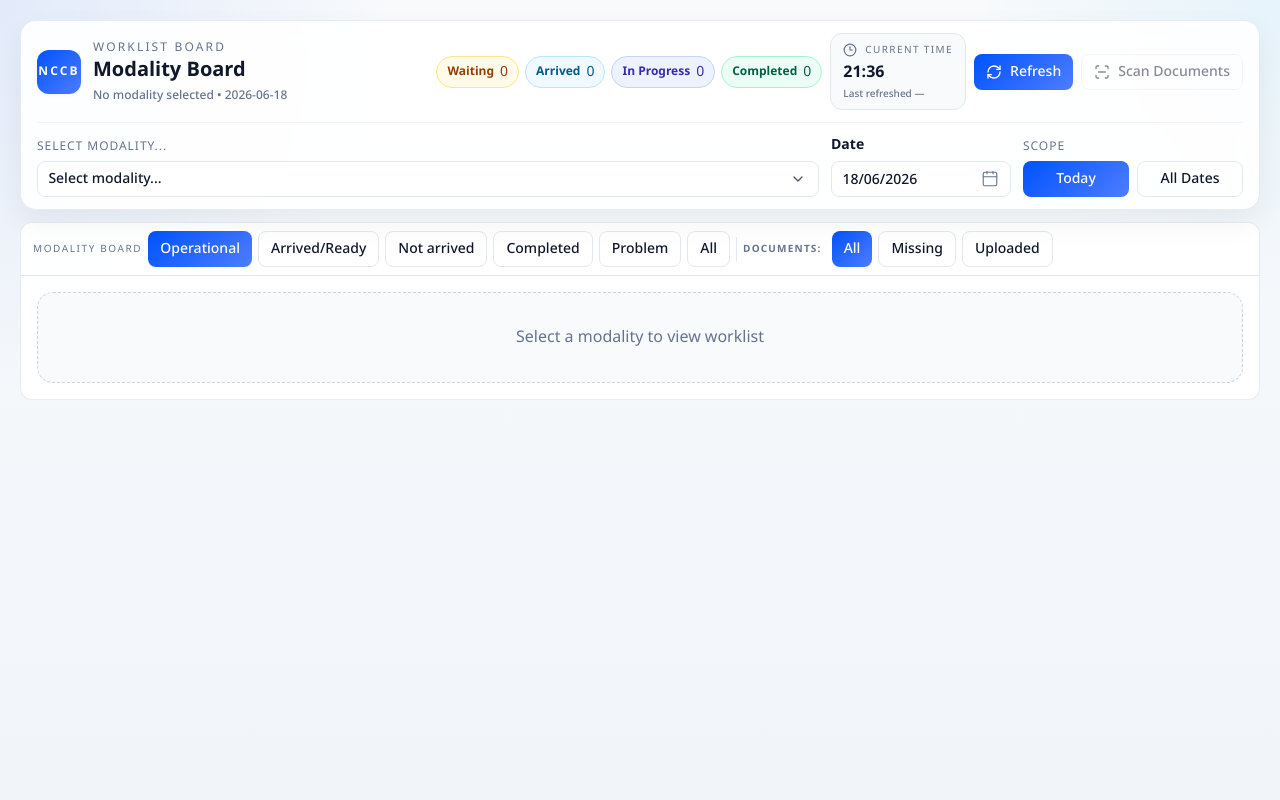
Scenario: ModalityPage modality board › shows the scoped failed scan count in the Scan Documents button
The image size is (1280, 800).
Select "CT" in the dropdown at point(428, 179), box [37, 161, 819, 197]
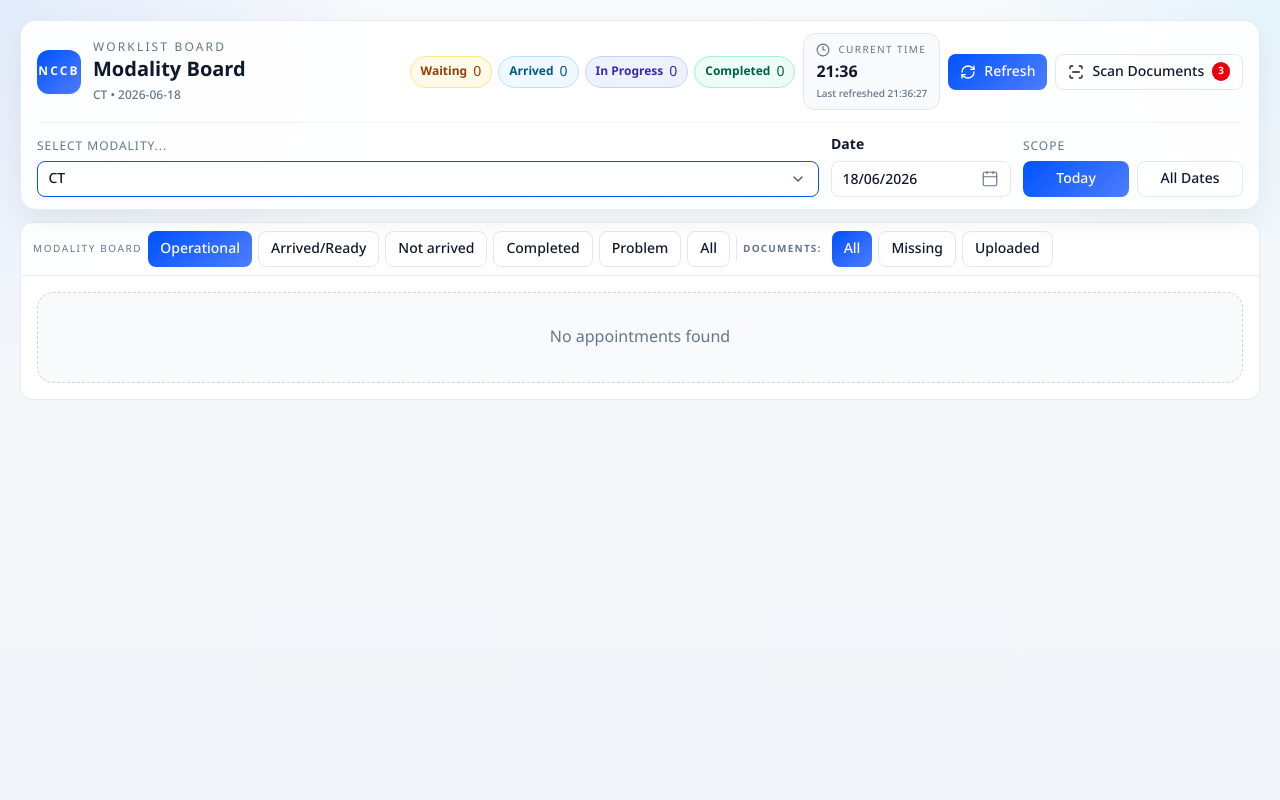
Expected: the text "3" is shown, [1212, 62, 1230, 81]
Click the button with aria-label "Scan Documents, 3 require attention".
click(1149, 72)  # box [1056, 54, 1243, 90]
(page scrolled)
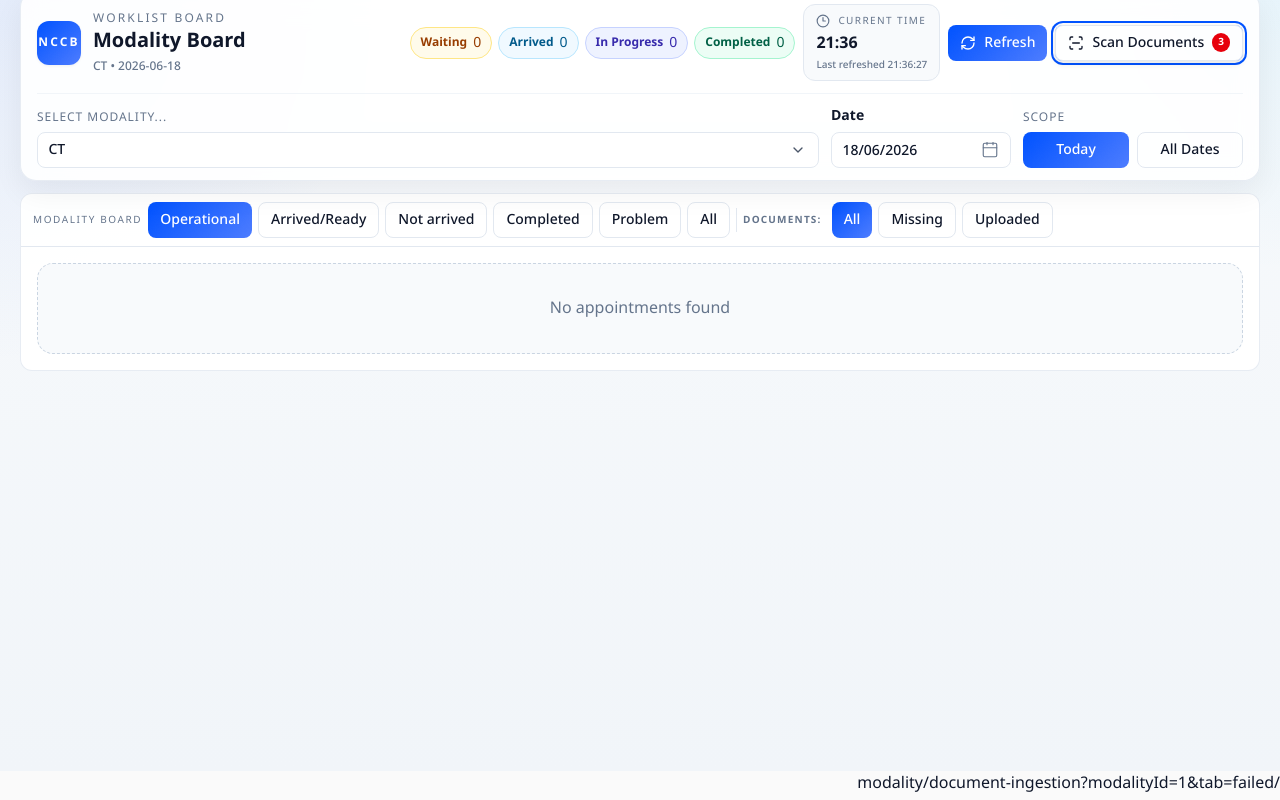
Expected: the text with test id "location" reads "/modality/document-ingestion?modalityId=1&tab=failed", [857, 766, 1279, 799]
